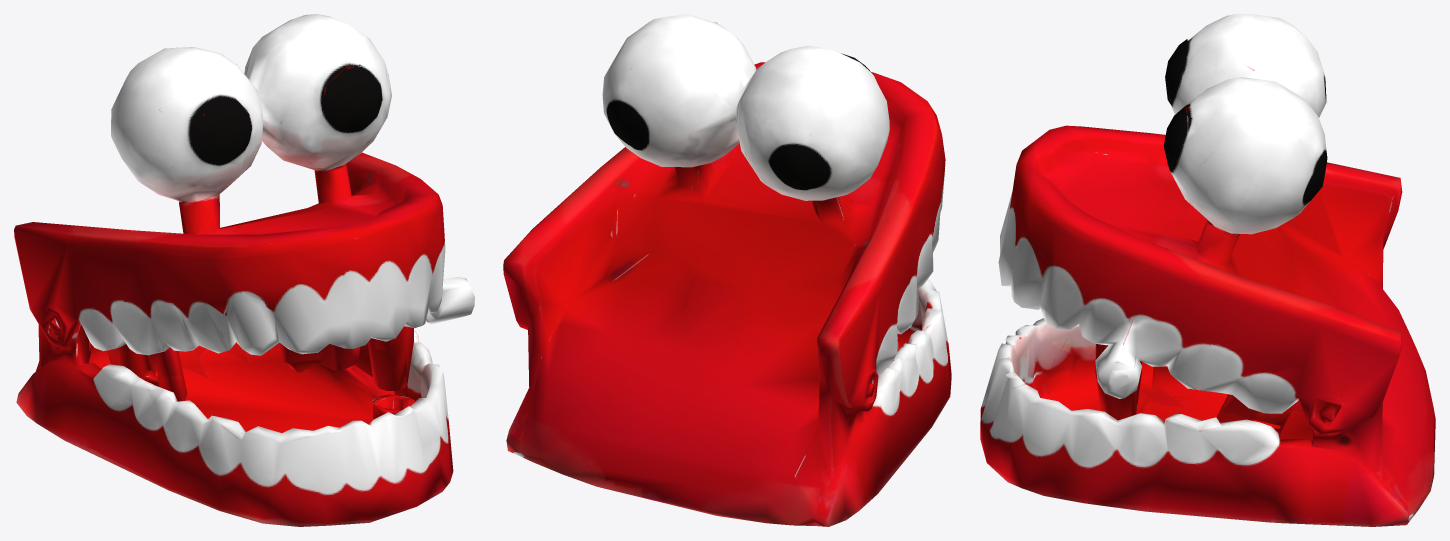
The model's file is chatter.glb.
3 renders of one model, left to right at view 1: azimuth 30°, elevation 25°; view 2: azimuth 150°, elevation 25°; view 3: azimuth 270°, elevation 25°, orthographic. The views are drawn at different scales.
Visible parts, largest first — view 1: Mesh1.0; view 2: Mesh1.0; view 3: Mesh1.0.
Part boxes in pixels (x1=…): Mesh1.0: x1=14, y1=14, x2=474, y2=526; Mesh1.0: x1=503, y1=14, x2=951, y2=526; Mesh1.0: x1=980, y1=14, x2=1435, y2=526.
Size of the model in its own units: 0.1063 by 0.12 by 0.1245.
Materials: 1 (1 with a texture image).
